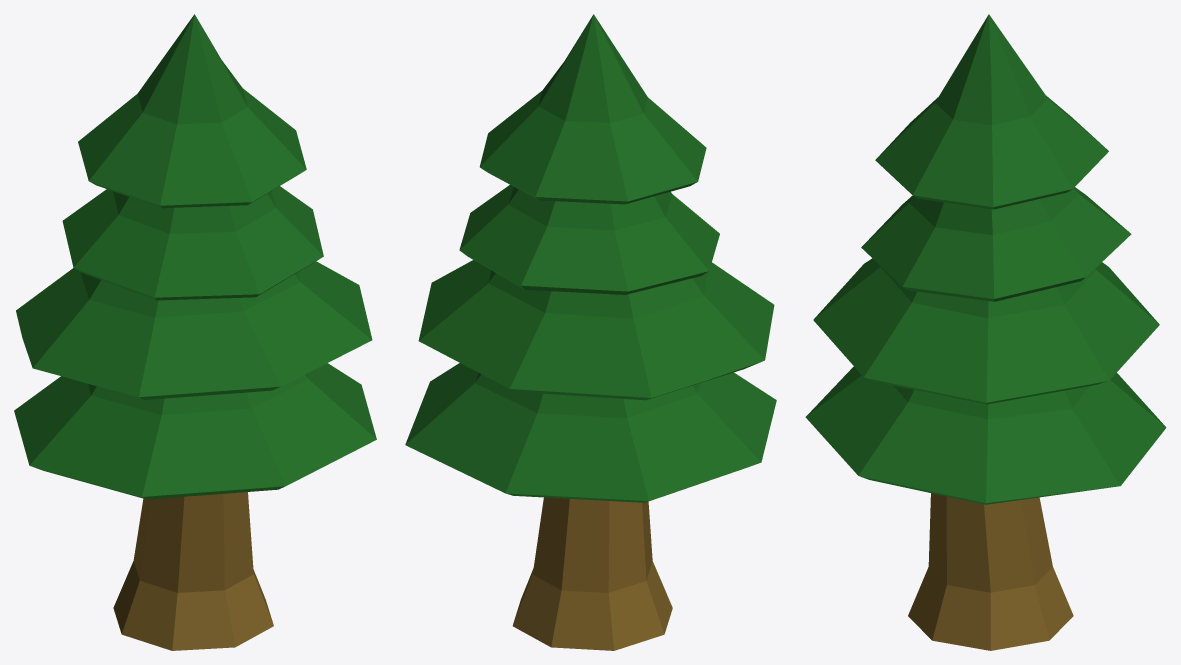
The model's file is TallWinterTree2.glb.
3 renders of one model, left to right at view 1: azimuth 30°, elevation 25°; view 2: azimuth 150°, elevation 25°; view 3: azimuth 270°, elevation 25°, orthographic.
Parts seen in each view (by area): view 1: Cylinder.004, Cylinder; view 2: Cylinder.004, Cylinder; view 3: Cylinder.004, Cylinder.
Boxes of the visible parts, left/top/right/bottom form: Cylinder.004: left=14, top=14, right=376, bottom=499; Cylinder: left=113, top=492, right=273, bottom=650; Cylinder.004: left=405, top=14, right=776, bottom=502; Cylinder: left=512, top=497, right=672, bottom=650; Cylinder.004: left=805, top=14, right=1166, bottom=504; Cylinder: left=908, top=493, right=1073, bottom=650.
Size of the model in its own units: 7.48 by 12.98 by 7.06.
2 materials, 2 textured.
